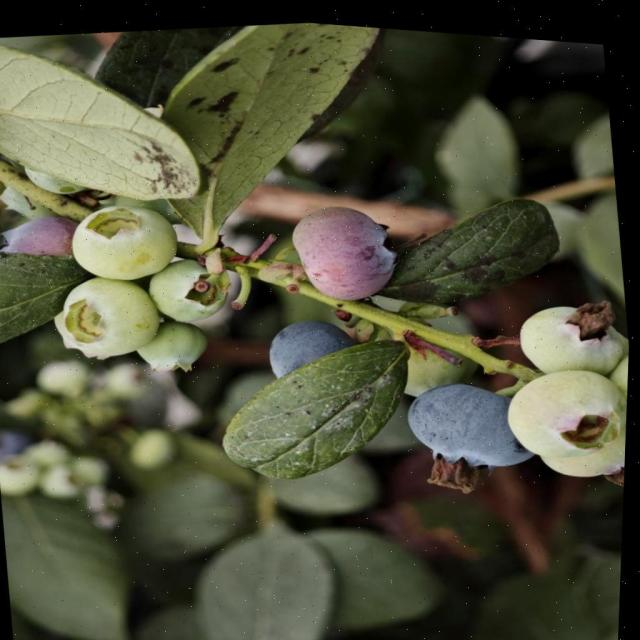RipeBlueBerry: (402, 366, 520, 484)
Semi-RipeBlueBerry: (286, 187, 408, 302)
UnripeBlueBerry: (498, 352, 630, 458), (37, 266, 165, 368), (514, 275, 630, 371), (68, 193, 183, 283)
